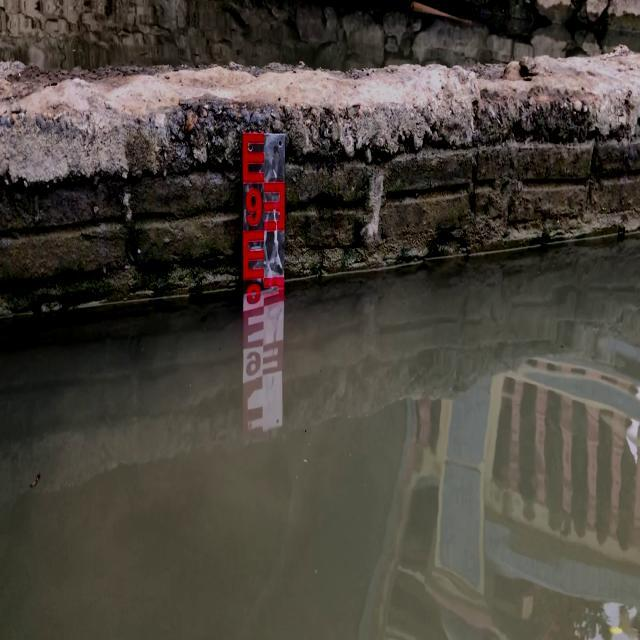ruler: (230, 120, 296, 294)
value: (241, 180, 266, 231)
